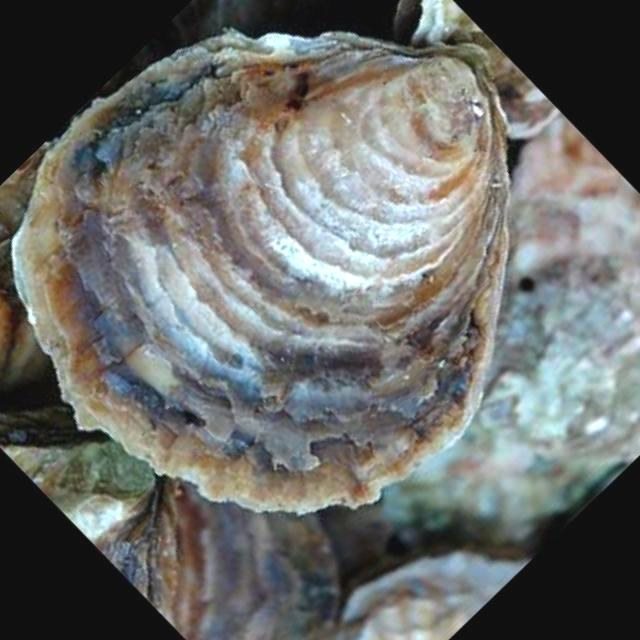Oyster-Closed: (12, 31, 509, 513), (362, 116, 640, 568), (152, 482, 339, 640), (409, 0, 559, 140), (4, 439, 155, 542)
Oyster-Open: (338, 551, 525, 640)
